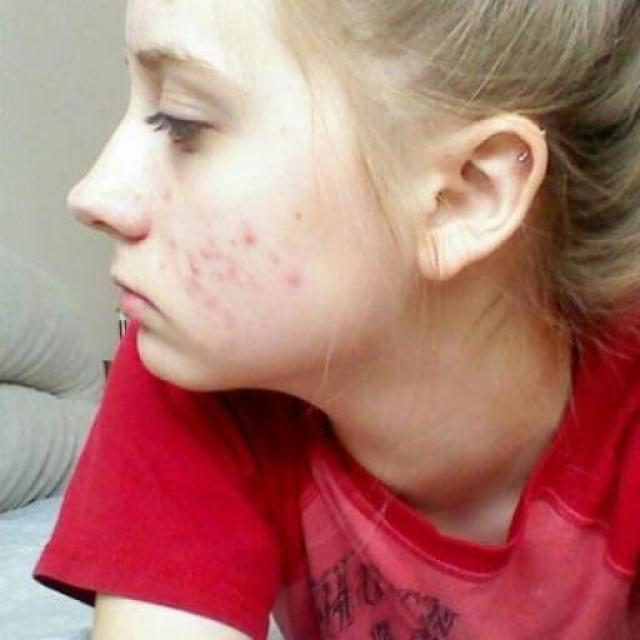Acne: (152, 183, 311, 309)
